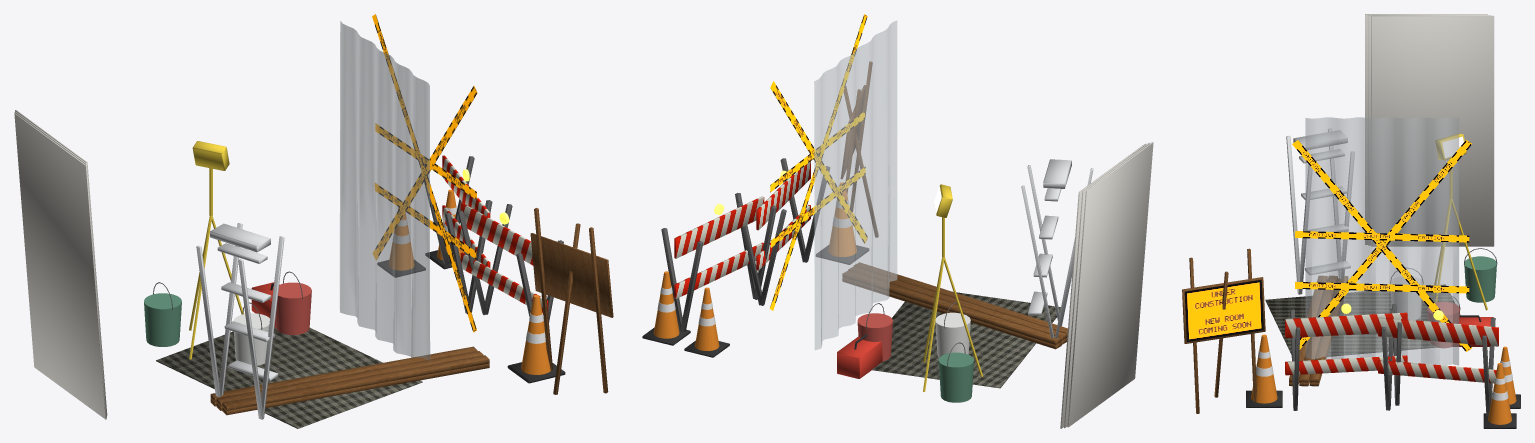
File: construction.glb
The picture shows the model from 3 angles, left to right: view 1: azimuth 30°, elevation 25°; view 2: azimuth 150°, elevation 25°; view 3: azimuth 270°, elevation 25°; orthographic projection. The views are drawn at different scales.
Parts seen in each view (by area): view 1: Plastic sheet, Drywall sheet, Lumber, Drop cloth, Aluminum, Caution tape, Barricade stripes, Painted steel, Cone orange, Tool yellow, Bucket.001, Bucket.002 (+3 smaller); view 2: Plastic sheet, Drywall sheet, Lumber, Drop cloth, Barricade stripes, Caution tape, Painted steel, Aluminum, Cone orange, Bucket.001, Tool yellow, Toolbox (+4 smaller); view 3: Plastic sheet, Drywall sheet, Barricade stripes, Caution tape, Sign face, Aluminum, Lumber, Drop cloth, Painted steel, Cone orange, Bucket.001, Tool yellow (+5 smaller).
Boxes of the visible parts, box(x1,y1,x2,y2) form: Plastic sheet: box(340, 21, 430, 360); Drywall sheet: box(14, 110, 107, 419); Lumber: box(210, 208, 613, 415); Drop cloth: box(156, 327, 422, 428); Aluminum: box(196, 223, 284, 419); Caution tape: box(372, 14, 477, 332); Barricade stripes: box(442, 155, 548, 314); Painted steel: box(153, 156, 563, 329); Cone orange: box(389, 189, 550, 374); Tool yellow: box(189, 141, 243, 359); Bucket.001: box(144, 293, 181, 346); Bucket.002: box(275, 282, 311, 334); Plastic sheet: box(814, 20, 897, 350); Drywall sheet: box(1060, 142, 1153, 428); Lumber: box(841, 61, 1067, 349); Drop cloth: box(872, 292, 1060, 388); Barricade stripes: box(674, 161, 810, 298); Caution tape: box(769, 14, 867, 310); Painted steel: box(661, 158, 965, 368); Aluminum: box(1021, 159, 1093, 338); Cone orange: box(653, 182, 856, 350); Bucket.001: box(938, 352, 973, 402); Tool yellow: box(923, 184, 983, 391); Toolbox: box(837, 336, 882, 378); Plastic sheet: box(1305, 117, 1458, 365); Drywall sheet: box(1365, 14, 1494, 246); Barricade stripes: box(1285, 312, 1498, 383); Caution tape: box(1292, 139, 1471, 351); Sign face: box(1184, 279, 1263, 341); Aluminum: box(1286, 128, 1354, 294); Lumber: box(1182, 248, 1347, 413); Drop cloth: box(1265, 284, 1460, 356); Painted steel: box(1290, 248, 1497, 416); Cone orange: box(1251, 334, 1516, 424); Bucket.001: box(1464, 256, 1496, 302); Tool yellow: box(1432, 134, 1487, 310).
Bounding box in the file's own units: 4.46 × 2.67 × 3.31.
20 materials, 5 textured.
